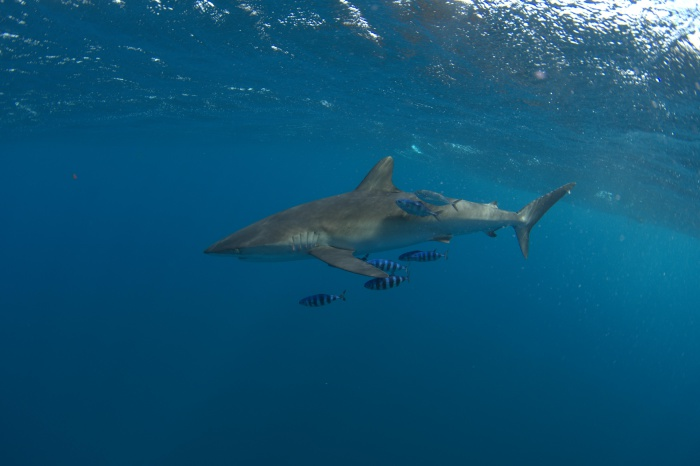Sedoso: (189, 145, 586, 287)
